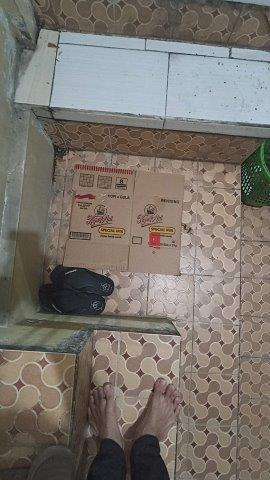kardus: (64, 165, 184, 274)
